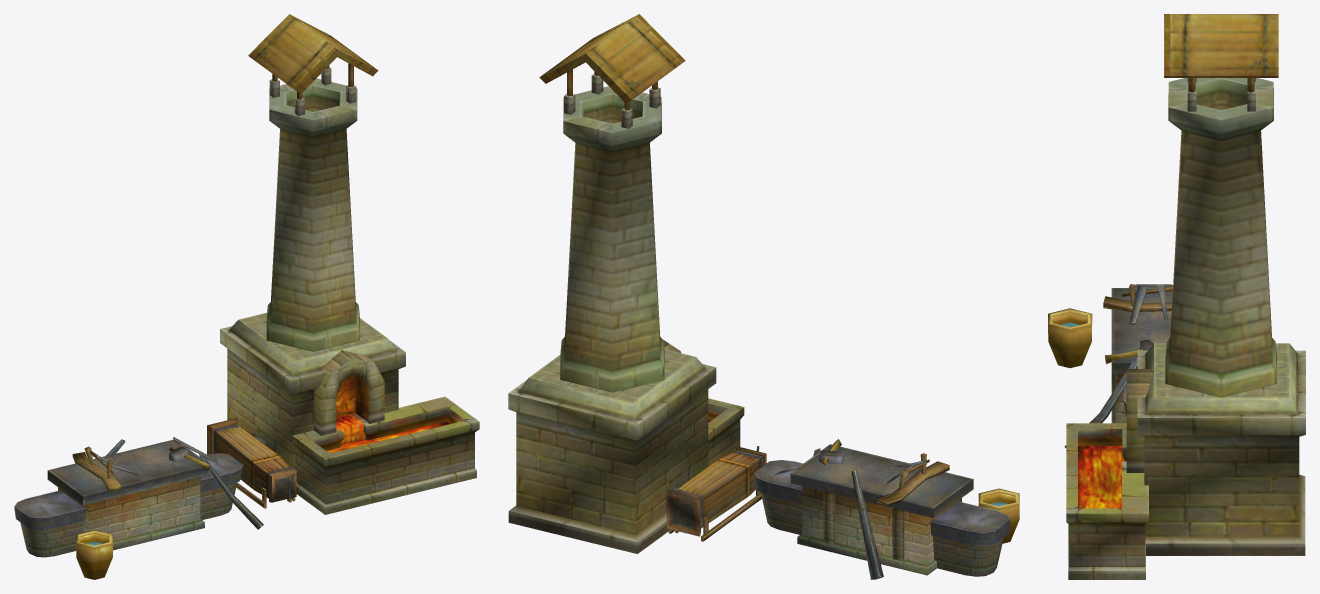
Rendered from rong_lu_001.FBX.
The picture shows the model from 3 angles, left to right: view 1: azimuth 30°, elevation 25°; view 2: azimuth 150°, elevation 25°; view 3: azimuth 270°, elevation 25°; orthographic projection. The views are drawn at different scales.
Visible parts, largest first — view 1: rong_lu_001_a, rong_lu_001_b, rong_lu_001_c; view 2: rong_lu_001_a, rong_lu_001_b, rong_lu_001_c; view 3: rong_lu_001_a, rong_lu_001_b, rong_lu_001_c.
Part boxes in pixels (left/top/right/bottom): rong_lu_001_a: left=207, top=14, right=479, bottom=514; rong_lu_001_b: left=14, top=437, right=263, bottom=557; rong_lu_001_c: left=76, top=530, right=112, bottom=579; rong_lu_001_a: left=508, top=14, right=766, bottom=553; rong_lu_001_b: left=753, top=439, right=1010, bottom=579; rong_lu_001_c: left=978, top=488, right=1019, bottom=543; rong_lu_001_a: left=1066, top=14, right=1305, bottom=579; rong_lu_001_b: left=1064, top=284, right=1172, bottom=448; rong_lu_001_c: left=1048, top=308, right=1092, bottom=368.
Size of the model in its own units: 726 by 705 by 321.
Materials: 1 (1 with a texture image).
